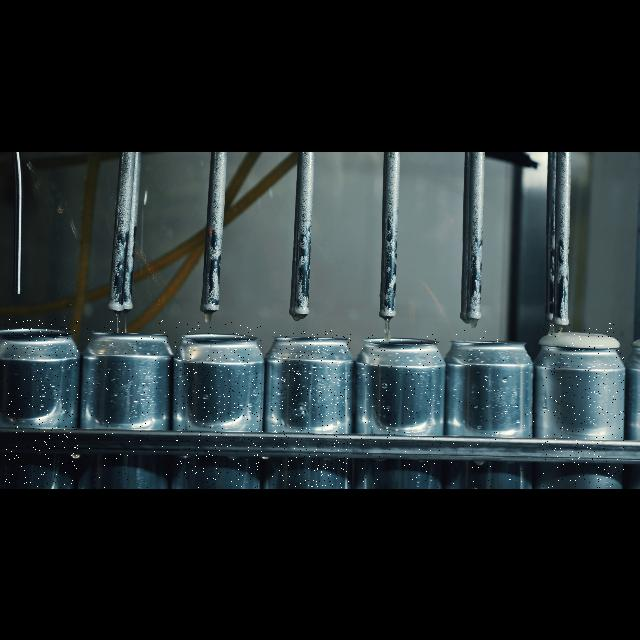empty: (175, 322, 263, 488), (87, 320, 169, 488), (450, 328, 534, 488), (271, 330, 351, 488), (360, 334, 442, 488), (4, 318, 78, 488)
full: (542, 322, 624, 488)
